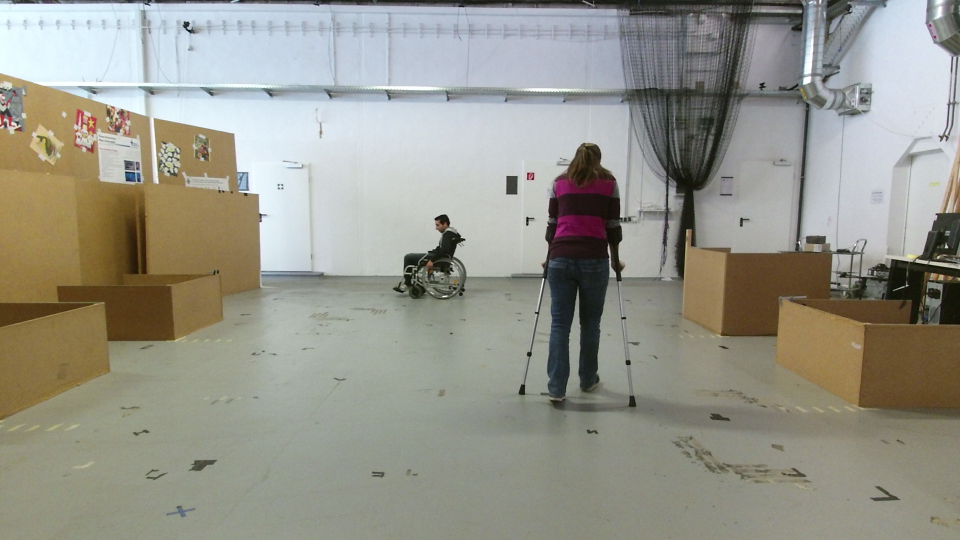crutches: (513, 140, 636, 410)
wheelchair: (388, 208, 469, 300)
